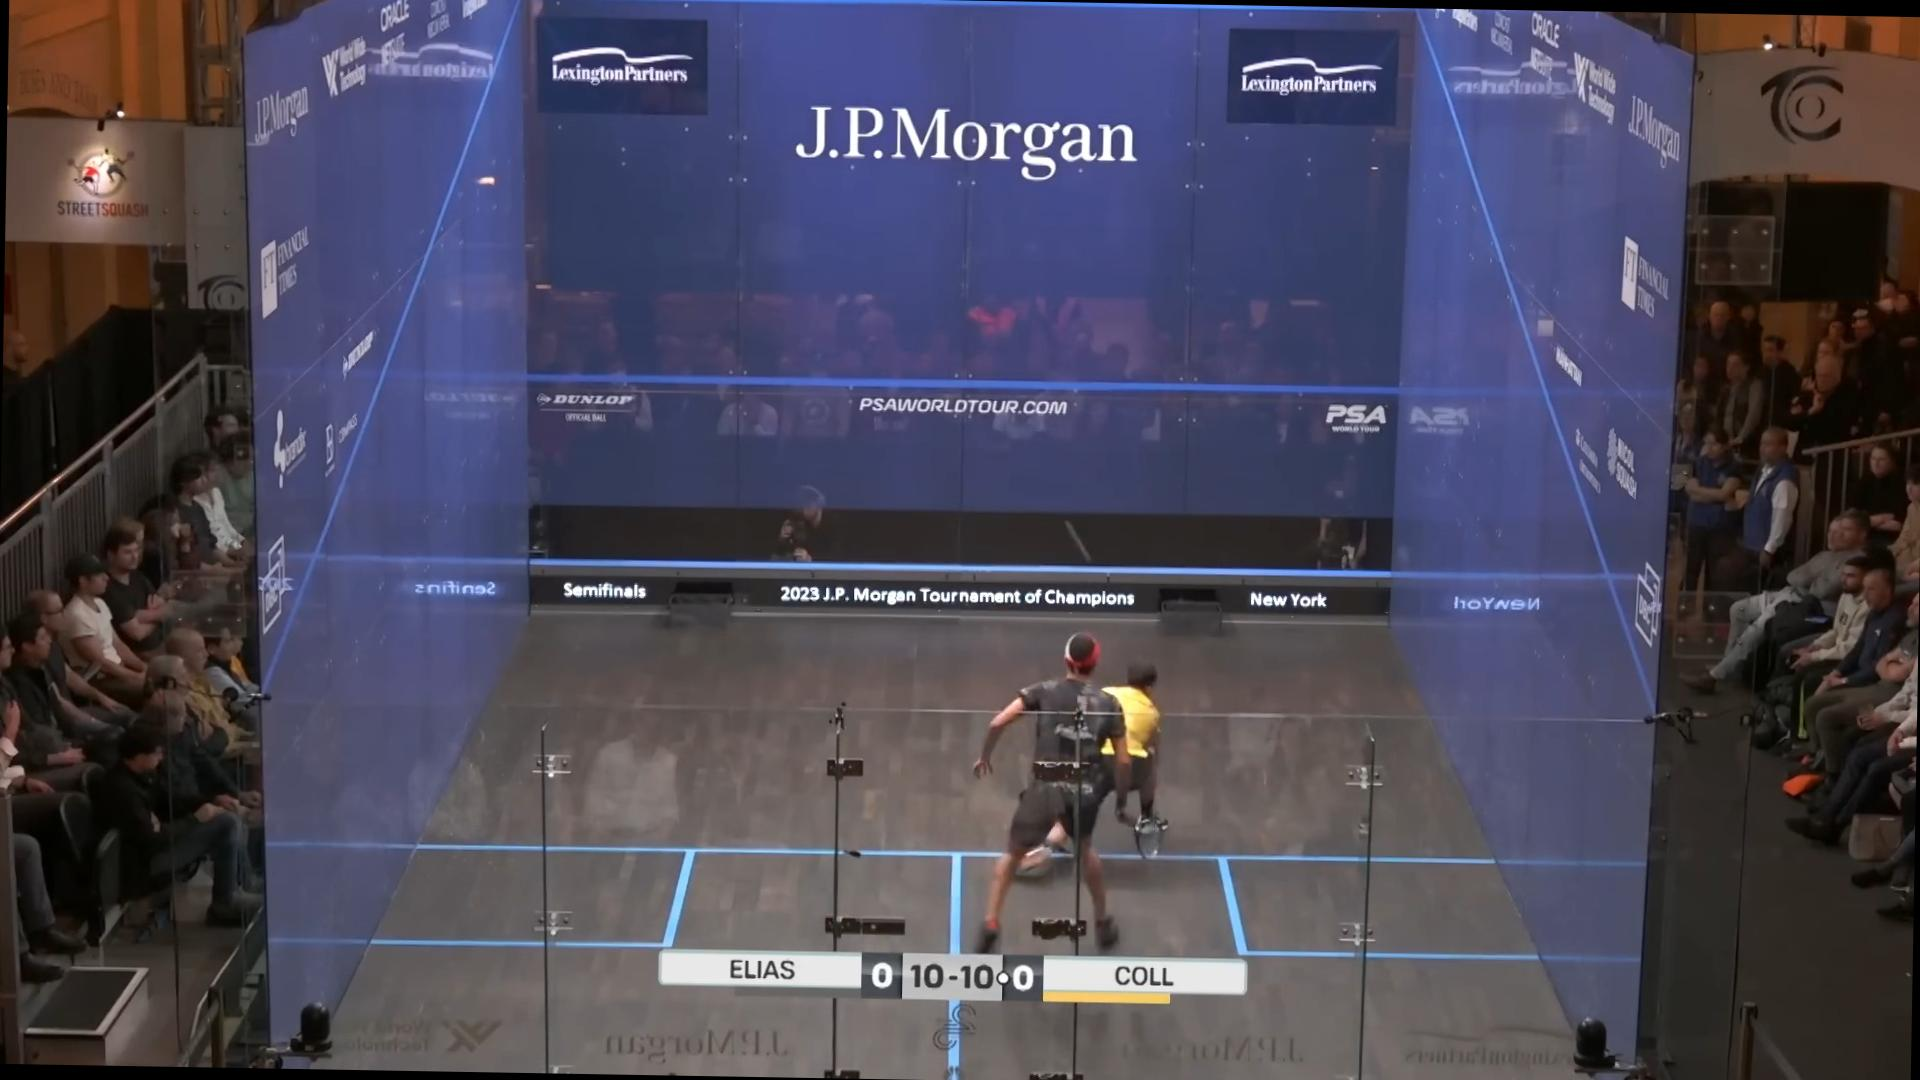Racket: (1101, 811, 1171, 868)
